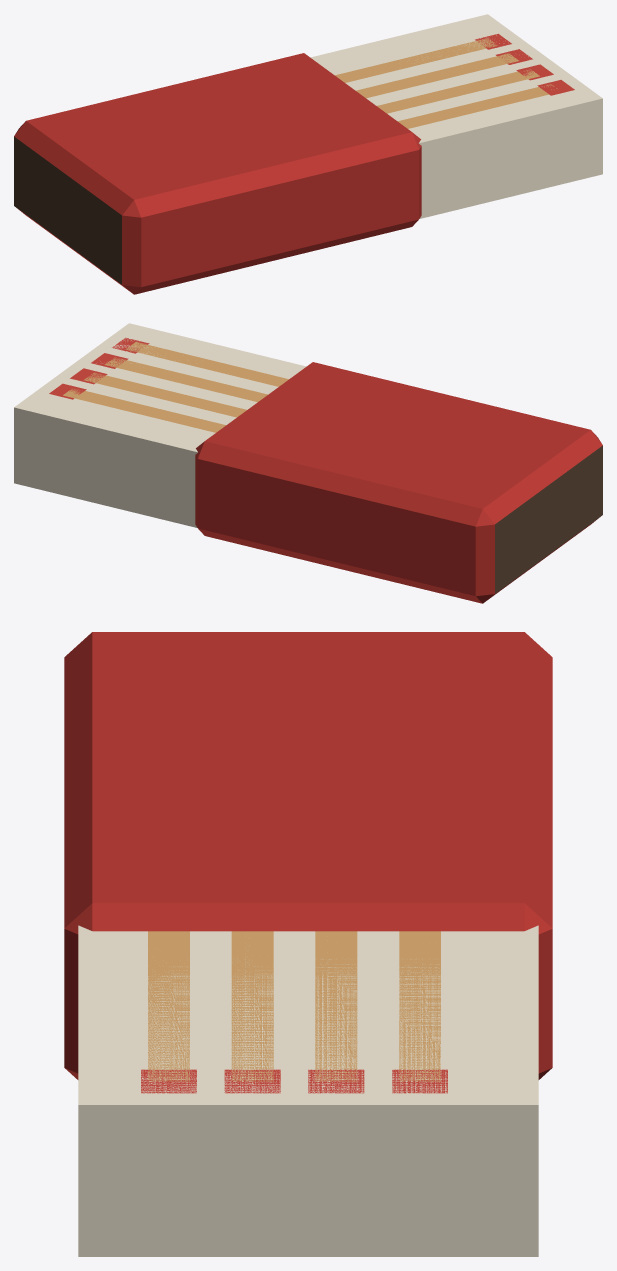
File: SM_Matchbox.glb
3 renders of one model, top to bottom at view 1: azimuth 30°, elevation 25°; view 2: azimuth 150°, elevation 25°; view 3: azimuth 270°, elevation 25°, orthographic. The views are drawn at different scales.
Parts seen in each view (by area): view 1: SM_Matchbox; view 2: SM_Matchbox; view 3: SM_Matchbox.
Part boxes in pixels (x1,y1,x2,y2): SM_Matchbox: (14, 14, 602, 294); SM_Matchbox: (14, 323, 602, 603); SM_Matchbox: (64, 632, 552, 1256).
Size of the model in its own units: 0.079 by 0.015 by 0.035.
1 material, 1 textured.
